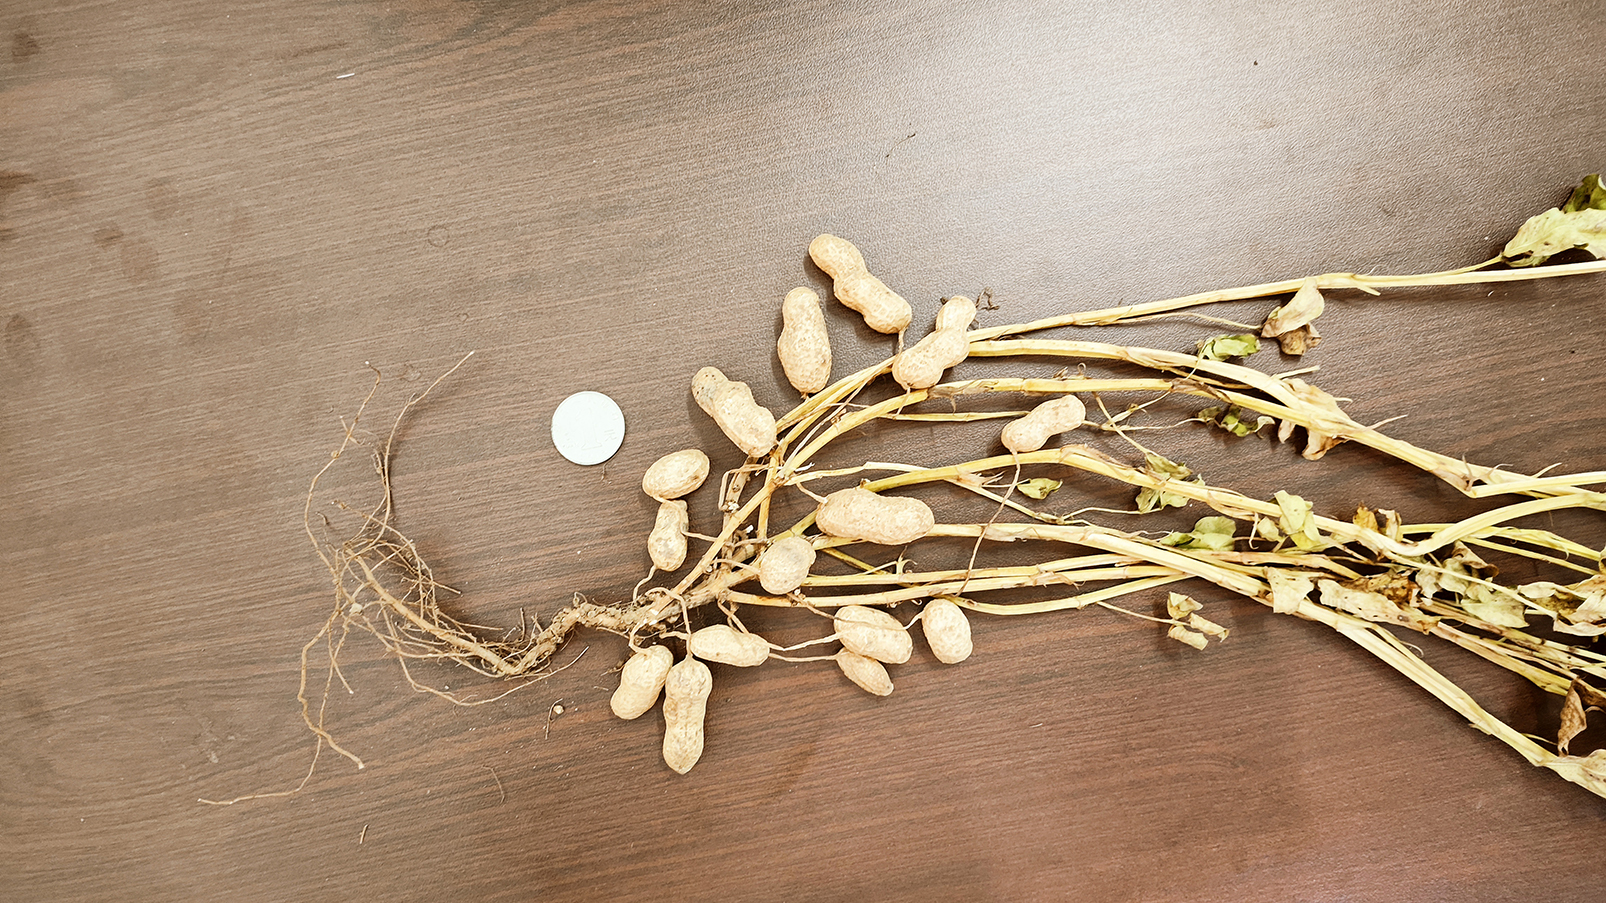h: (809, 232, 911, 334), (892, 295, 978, 388), (690, 364, 777, 456), (816, 487, 933, 545), (774, 286, 832, 393), (663, 656, 711, 775), (833, 606, 913, 667), (1002, 394, 1085, 451), (612, 642, 670, 719), (757, 535, 816, 596), (641, 448, 711, 499), (688, 624, 770, 668), (921, 599, 972, 666), (831, 649, 895, 698), (647, 499, 688, 572)
